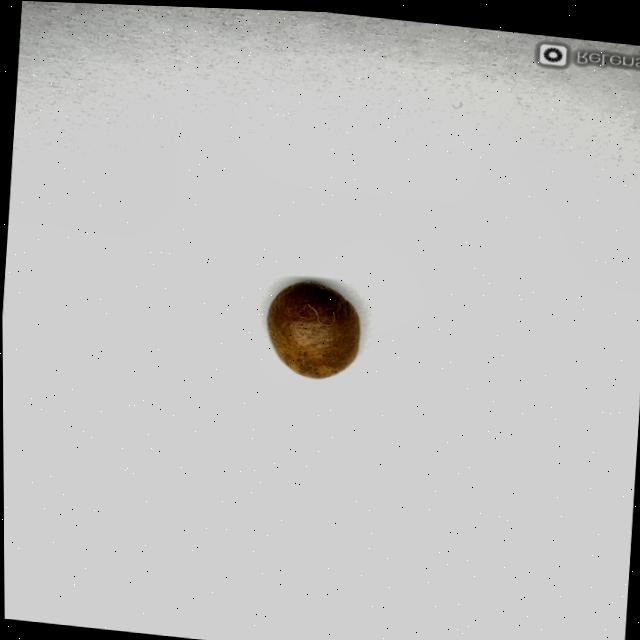Good bean: (261, 275, 363, 381)
